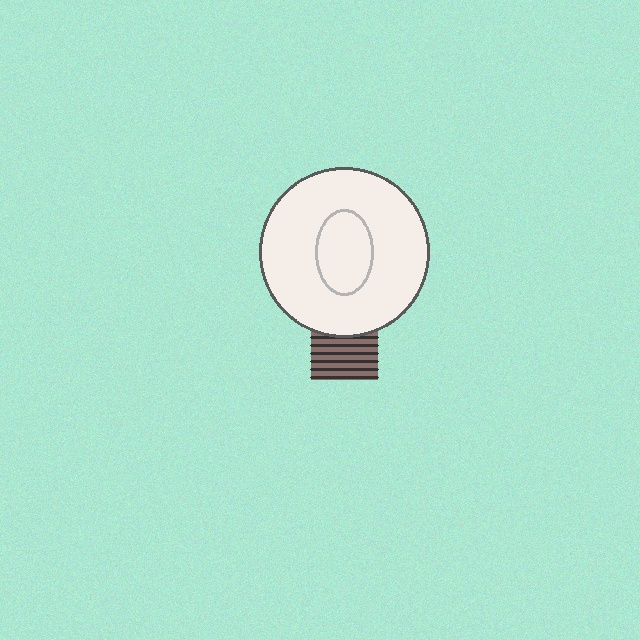bulb: (255, 163, 433, 384)
